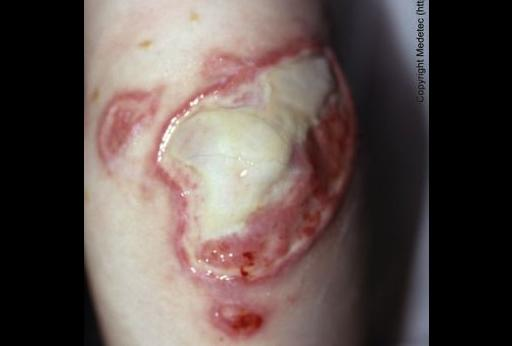NonPU: (83, 12, 357, 346)
